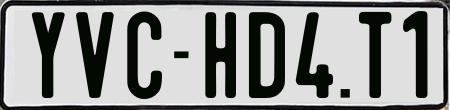1: (400, 11, 430, 98)
4: (295, 9, 333, 95)
C: (125, 9, 163, 100)
D: (247, 10, 285, 96)
H: (205, 9, 237, 99)
T: (359, 9, 396, 97)
V: (74, 9, 114, 101)
Y: (29, 12, 68, 103)
